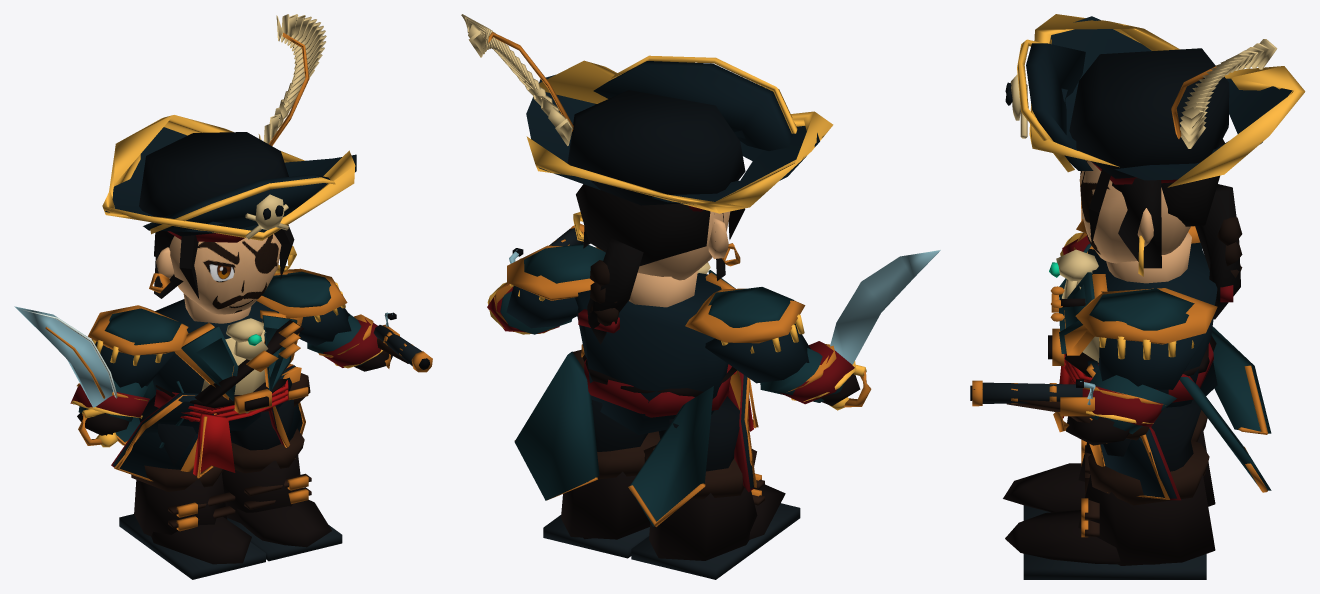
File: pirate.glb
3 renders of one model, left to right at view 1: azimuth 30°, elevation 25°; view 2: azimuth 150°, elevation 25°; view 3: azimuth 270°, elevation 25°, orthographic. The views are drawn at different scales.
Visible parts, largest first — view 1: Head_Geometry, Body_Geometry, Leg_R_Geometry, Leg_L_Geometry, Arm_R_Geometry, Arm_L_Geometry, Weapon_Cutlass_Geometry, Weapon_Pistol_Geometry; view 2: Head_Geometry, Body_Geometry, Leg_R_Geometry, Arm_R_Geometry, Leg_L_Geometry, Arm_L_Geometry, Weapon_Cutlass_Geometry; view 3: Head_Geometry, Leg_L_Geometry, Body_Geometry, Arm_L_Geometry, Leg_R_Geometry, Weapon_Pistol_Geometry, Arm_R_Geometry.
Part boxes in pixels (box(x1,y1,x2,y2)): Head_Geometry: box(102, 14, 356, 323); Body_Geometry: box(111, 299, 305, 481); Leg_R_Geometry: box(119, 395, 265, 579); Leg_L_Geometry: box(222, 399, 342, 561); Arm_R_Geometry: box(70, 305, 188, 435); Arm_L_Geometry: box(256, 268, 392, 371); Weapon_Cutlass_Geometry: box(14, 306, 118, 447); Weapon_Pistol_Geometry: box(373, 312, 432, 372); Head_Geometry: box(461, 14, 833, 344); Body_Geometry: box(514, 262, 758, 526); Leg_R_Geometry: box(631, 396, 800, 579); Arm_R_Geometry: box(685, 287, 860, 405); Leg_L_Geometry: box(543, 400, 660, 558); Arm_L_Geometry: box(487, 243, 605, 334); Weapon_Cutlass_Geometry: box(829, 249, 940, 410); Head_Geometry: box(1005, 14, 1305, 319); Leg_L_Geometry: box(1005, 399, 1215, 579); Body_Geometry: box(1048, 242, 1271, 500); Arm_L_Geometry: box(1066, 288, 1217, 445); Leg_R_Geometry: box(1003, 410, 1215, 520); Weapon_Pistol_Geometry: box(970, 379, 1106, 443); Arm_R_Geometry: box(1060, 219, 1202, 256).
Size of the model in its own units: 2.39 by 2.73 by 1.47.
Materials: 2 (2 with a texture image).
